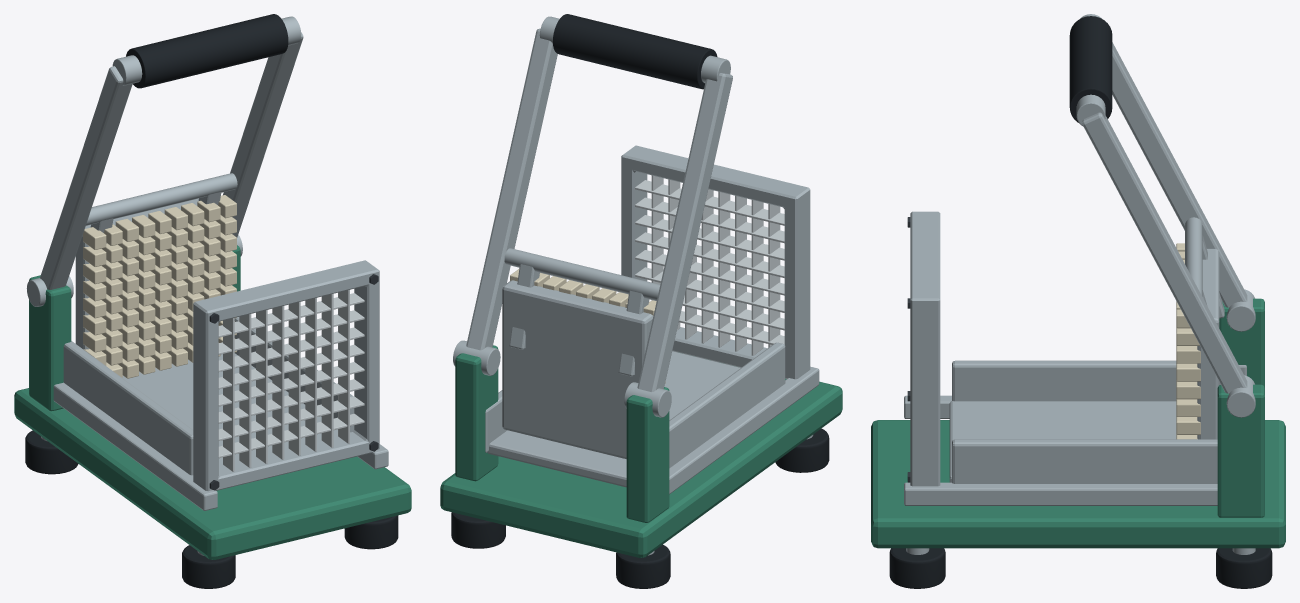
File: city-grid-potato-cutter.glb
3 views of the same model, side by side, from view 1: azimuth 30°, elevation 25°; view 2: azimuth 150°, elevation 25°; view 3: azimuth 270°, elevation 25° (orthographic). The views are drawn at different scales.
Visible parts, largest first — view 1: Assembly | Brushed exposed steel, Assembly | Green enamel machine body, Assembly | Warm cream enamel, Assembly | Bright small hardware, Assembly | Rubber feet and hoses; view 2: Assembly | Brushed exposed steel, Assembly | Green enamel machine body, Assembly | Bright small hardware, Assembly | Rubber feet and hoses, Assembly | Warm cream enamel; view 3: Assembly | Brushed exposed steel, Assembly | Green enamel machine body, Assembly | Rubber feet and hoses, Assembly | Warm cream enamel.
Part boxes in pixels (x1,y1,x2,y2): Assembly | Brushed exposed steel: [26, 16, 388, 555]; Assembly | Green enamel machine body: [14, 245, 411, 559]; Assembly | Warm cream enamel: [83, 195, 236, 378]; Assembly | Bright small hardware: [218, 290, 364, 471]; Assembly | Rubber feet and hoses: [25, 14, 398, 588]; Assembly | Brushed exposed steel: [453, 16, 819, 555]; Assembly | Green enamel machine body: [440, 345, 842, 557]; Assembly | Bright small hardware: [635, 175, 784, 355]; Assembly | Rubber feet and hoses: [451, 14, 829, 588]; Assembly | Warm cream enamel: [510, 269, 665, 383]; Assembly | Brushed exposed steel: [904, 14, 1255, 554]; Assembly | Green enamel machine body: [871, 298, 1285, 548]; Assembly | Rubber feet and hoses: [889, 16, 1272, 588]; Assembly | Warm cream enamel: [1176, 243, 1200, 439].
Bounding box in the file's own units: 0.26 × 0.552 × 0.428.
